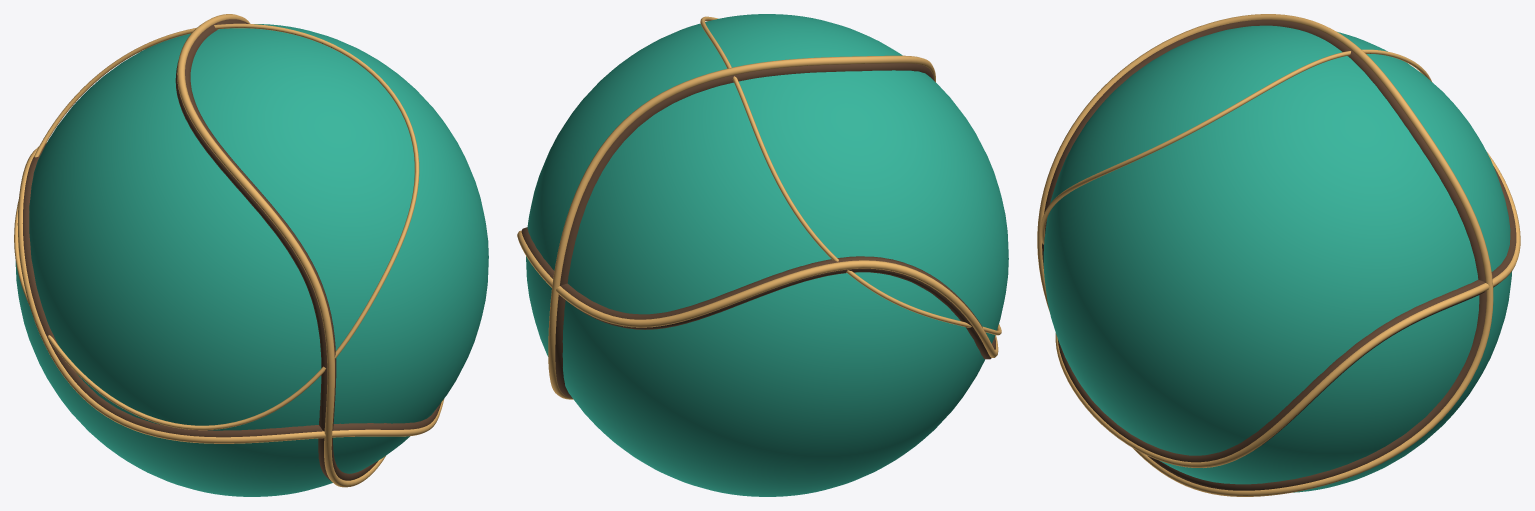
File: CeladonMarble.fbx
3 renders of one model, left to right at view 1: azimuth 30°, elevation 25°; view 2: azimuth 150°, elevation 25°; view 3: azimuth 270°, elevation 25°, orthographic. The views are drawn at different scales.
Visible parts, largest first — view 1: Ceramic Sphere, Fine Circumference, Gold Ribbon 2, Recessed Band 2, Recessed Band 1, Gold Ribbon 1; view 2: Ceramic Sphere, Gold Ribbon 2, Gold Ribbon 1, Recessed Band 2, Recessed Band 1, Fine Circumference; view 3: Ceramic Sphere, Gold Ribbon 2, Recessed Band 2, Recessed Band 1, Gold Ribbon 1, Fine Circumference.
Part boxes in pixels (<box>): Ceramic Sphere: <box>15,24,488,496</box>; Fine Circumference: <box>14,23,419,430</box>; Gold Ribbon 2: <box>177,14,385,487</box>; Recessed Band 2: <box>175,19,378,481</box>; Recessed Band 1: <box>22,143,441,437</box>; Gold Ribbon 1: <box>17,142,444,443</box>; Ceramic Sphere: <box>526,14,1008,496</box>; Gold Ribbon 2: <box>548,55,935,399</box>; Gold Ribbon 1: <box>517,230,998,357</box>; Recessed Band 2: <box>555,63,934,398</box>; Recessed Band 1: <box>521,227,995,359</box>; Fine Circumference: <box>700,16,1001,335</box>; Ceramic Sphere: <box>1043,25,1511,492</box>; Gold Ribbon 2: <box>1037,14,1493,496</box>; Recessed Band 2: <box>1042,19,1486,490</box>; Recessed Band 1: <box>1058,166,1516,462</box>; Gold Ribbon 1: <box>1055,152,1520,467</box>; Fine Circumference: <box>1040,49,1431,244</box>.
Size of the model in its own units: 1.06 by 1.04 by 1.06.
